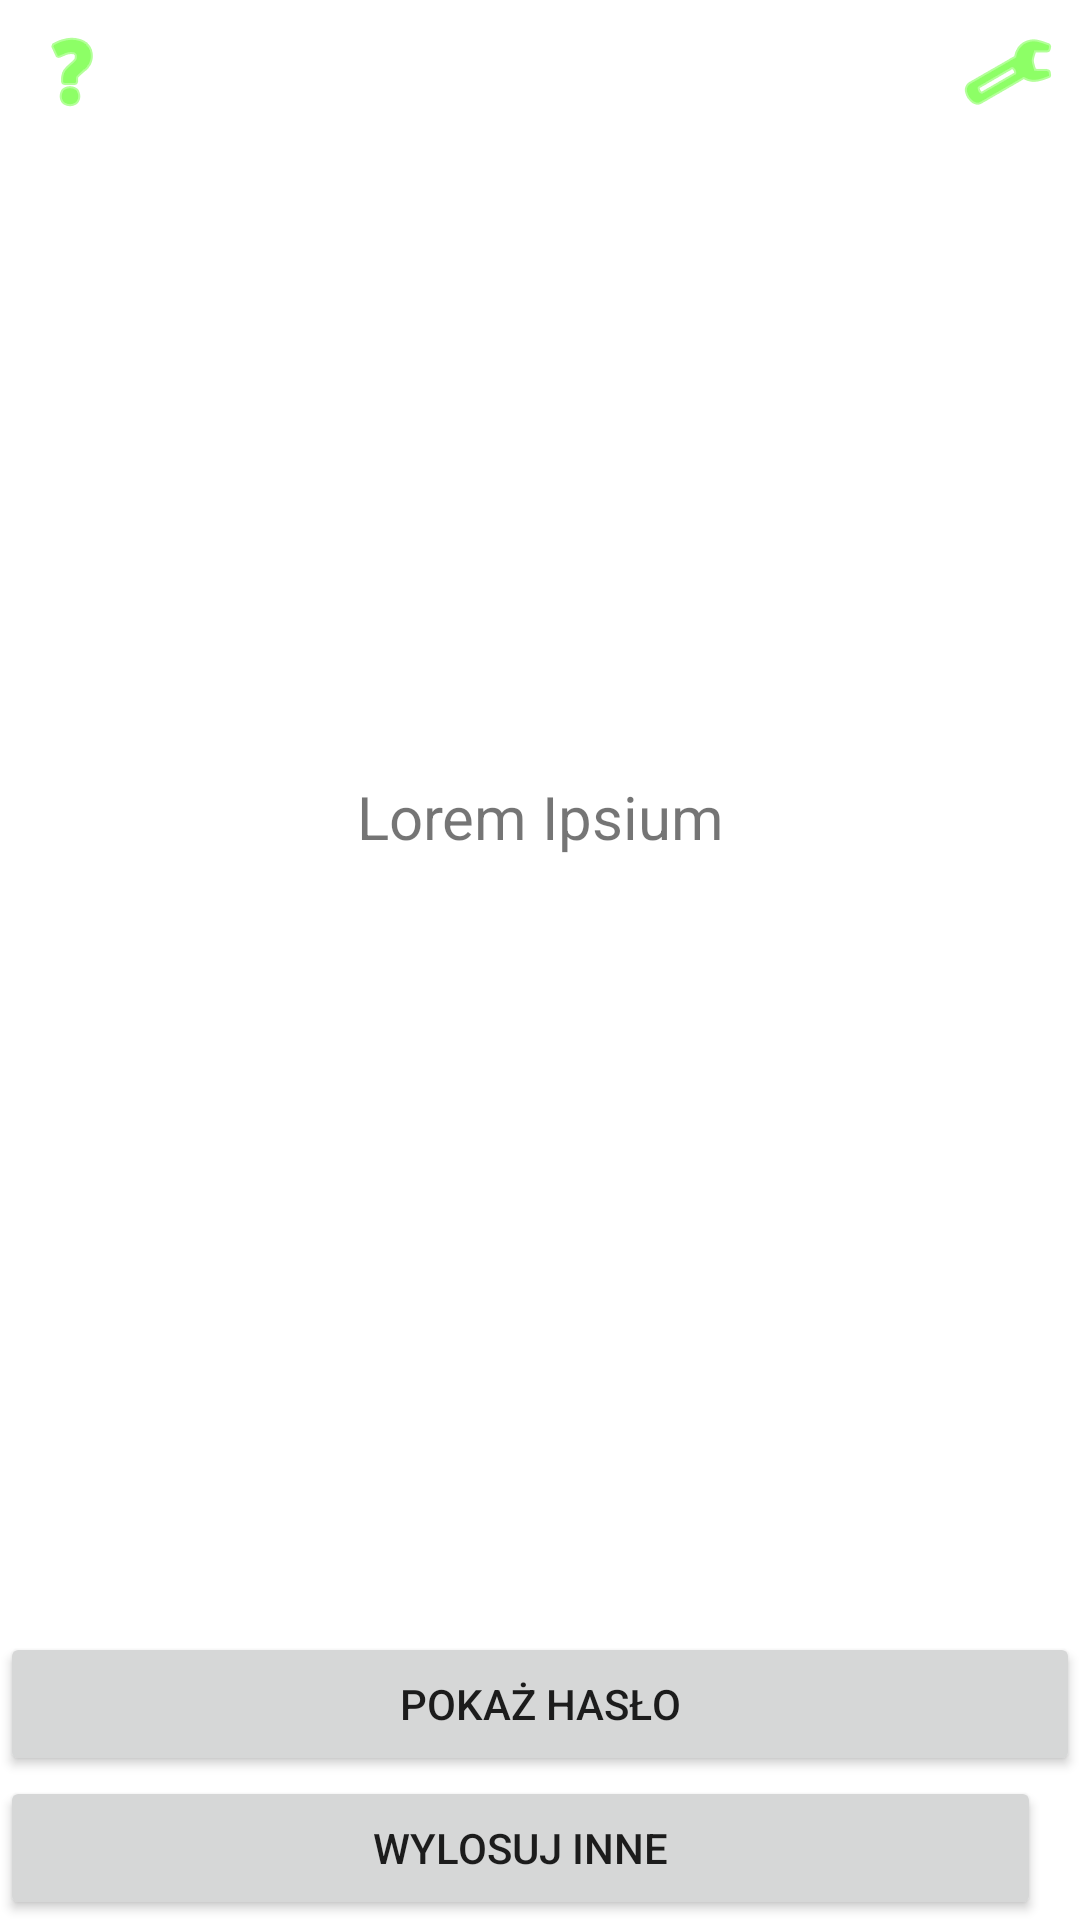

Named icons in this screenshot (1080px×1920px) and their centers, (x,y):
help: (72,72)
preferences: (1008,72)
